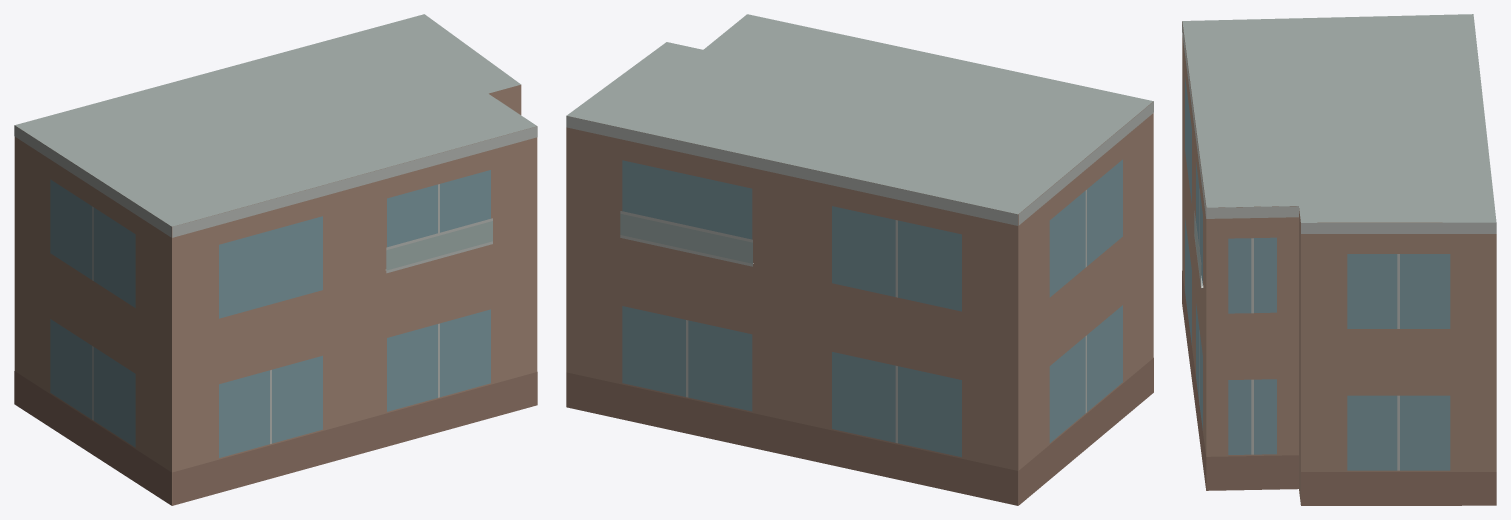
Rendered from survey-upis-32621954.glb.
3 renders of one model, left to right at view 1: azimuth 30°, elevation 25°; view 2: azimuth 150°, elevation 25°; view 3: azimuth 270°, elevation 25°, orthographic. The views are drawn at different scales.
Parts seen in each view (by area): view 1: survey-upis-32621954.tmp; view 2: survey-upis-32621954.tmp; view 3: survey-upis-32621954.tmp.
Boxes of the visible parts, bbox=[...] form: survey-upis-32621954.tmp: bbox=[14, 14, 537, 505]; survey-upis-32621954.tmp: bbox=[566, 14, 1153, 505]; survey-upis-32621954.tmp: bbox=[1182, 14, 1496, 505].
Size of the model in its own units: 9.66 by 6.1 by 6.15.
